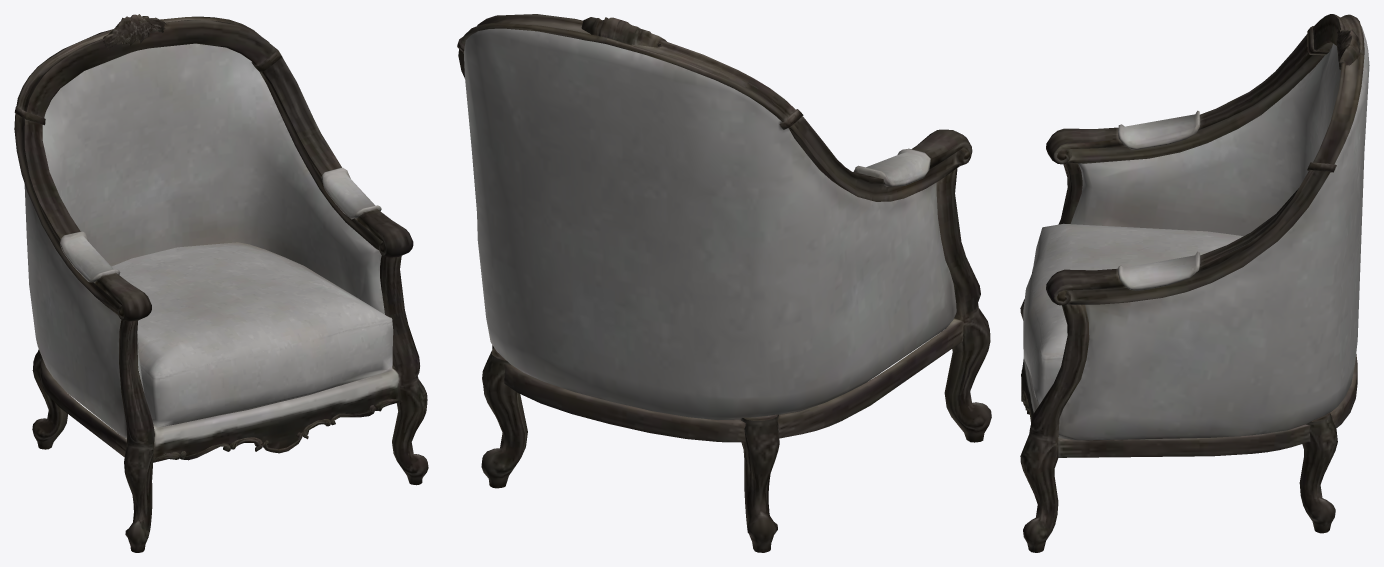
Rendered from armchair_01.glb.
3 views of the same model, side by side, from view 1: azimuth 30°, elevation 25°; view 2: azimuth 150°, elevation 25°; view 3: azimuth 270°, elevation 25° (orthographic). The views are drawn at different scales.
Visible parts, largest first — view 1: ArmChair_01; view 2: ArmChair_01; view 3: ArmChair_01.
Boxes of the visible parts, left/top/right/bottom form: ArmChair_01: left=14, top=14, right=428, bottom=552; ArmChair_01: left=457, top=14, right=991, bottom=552; ArmChair_01: left=1020, top=14, right=1369, bottom=552.
Bounding box in the file's own units: 0.8483 × 1.06 × 0.7658.
1 material, 1 textured.
